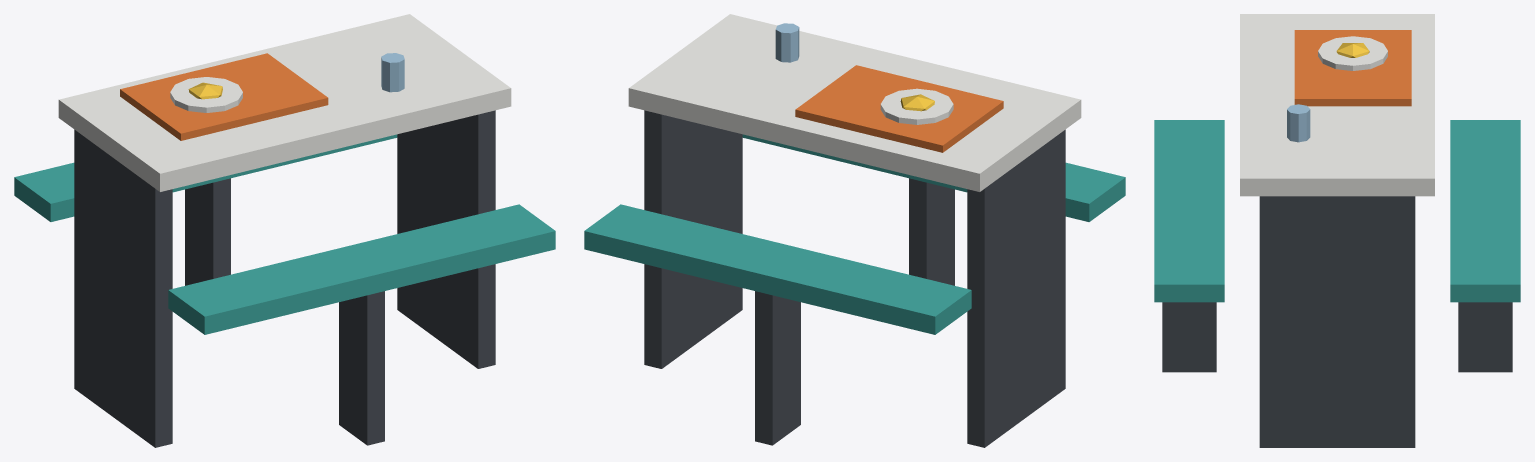
Rendered from canteen_long.glb.
The picture shows the model from 3 angles, left to right: view 1: azimuth 30°, elevation 25°; view 2: azimuth 150°, elevation 25°; view 3: azimuth 270°, elevation 25°; orthographic projection. The views are drawn at different scales.
Visible parts, largest first — view 1: canteen_long_mesh; view 2: canteen_long_mesh; view 3: canteen_long_mesh.
Boxes of the visible parts, <box> form: canteen_long_mesh: <box>14,14,555,447</box>; canteen_long_mesh: <box>584,14,1125,447</box>; canteen_long_mesh: <box>1154,14,1520,447</box>.
Bounding box in the file's own units: 1 × 0.85 × 0.94.
